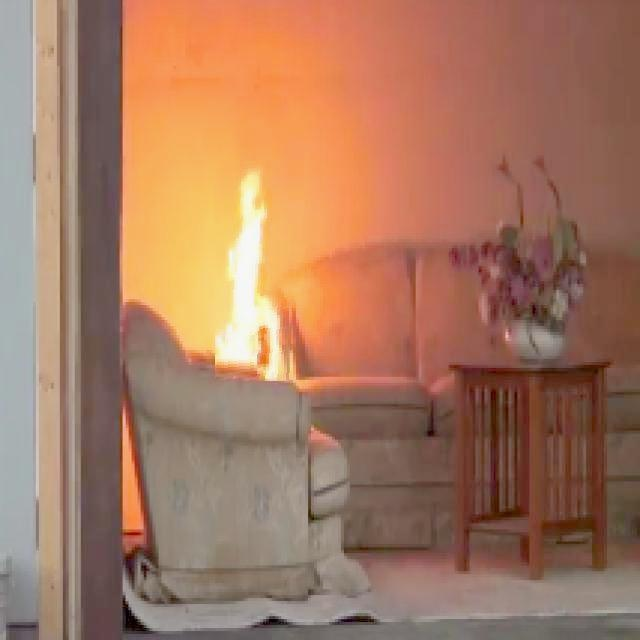fire: (192, 172, 295, 365)
